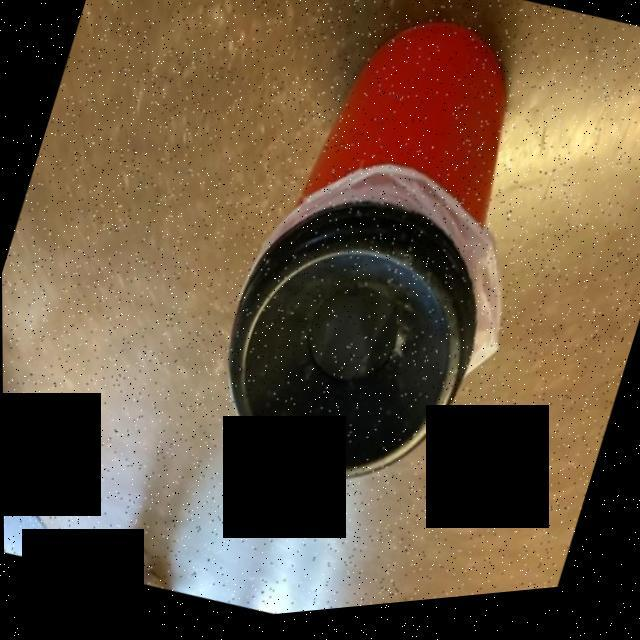bin: (179, 0, 605, 550)
